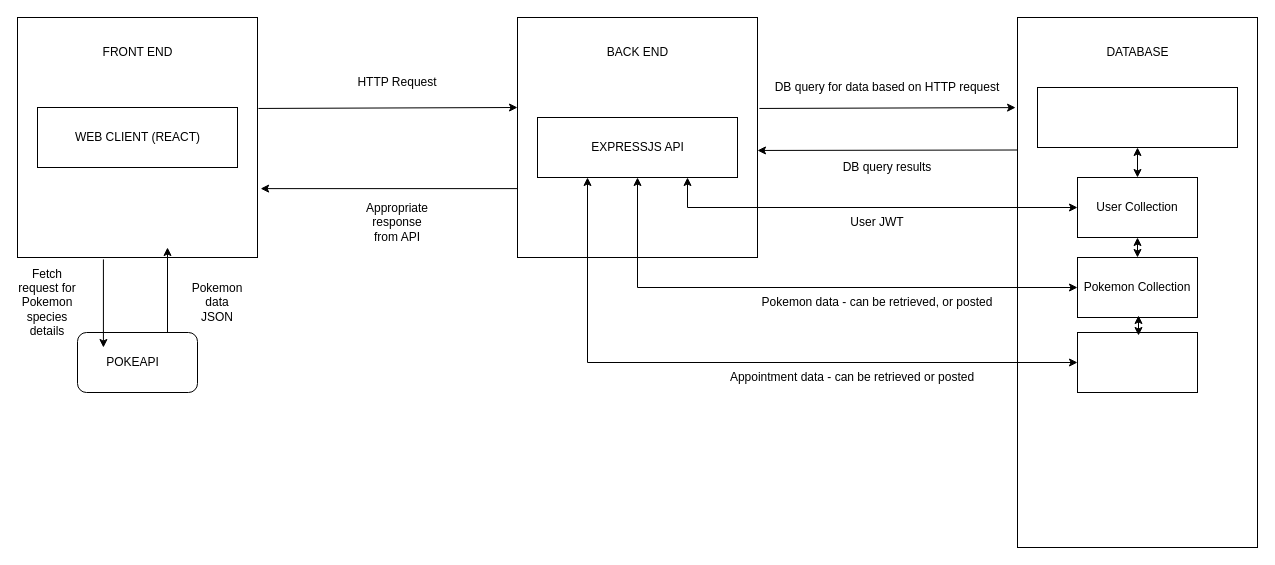
Some shapes in this 1275 by 565 pixel diagram are drawn without their labels. Here are the shapes that lost their labels. From the top down, the box of each, then its label:
(1036, 86, 1238, 148): MONGODB DATABASE
(1076, 332, 1198, 392): Appointment Collection
